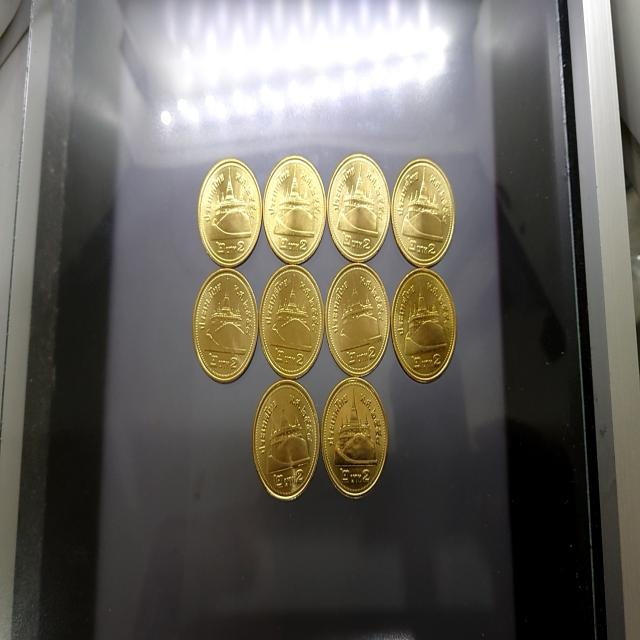2 Bath: (252, 379, 322, 505), (323, 376, 391, 503), (390, 267, 460, 387), (191, 269, 260, 386), (259, 267, 327, 380), (326, 263, 392, 379), (199, 157, 265, 271), (263, 153, 327, 268), (327, 152, 392, 265), (392, 157, 457, 270)
